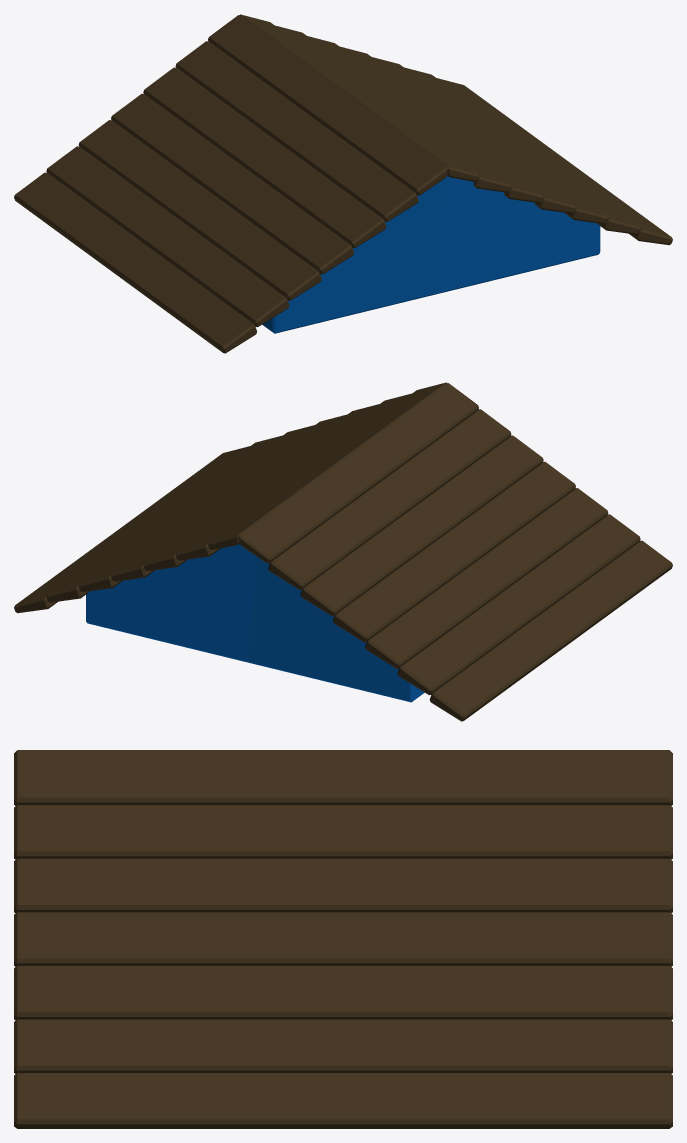
File: Ceiling.fbx
3 views of the same model, one above another, from view 1: azimuth 30°, elevation 25°; view 2: azimuth 150°, elevation 25°; view 3: azimuth 270°, elevation 25° (orthographic). The views are drawn at different scales.
Visible parts, largest first — view 1: Roof; view 2: Roof; view 3: Roof.
Boxes of the visible parts, <box> form: Roof: <box>14,14,672,353</box>; Roof: <box>14,382,672,721</box>; Roof: <box>14,750,672,1128</box>.
Bounding box in the file's own units: 2480 × 712 × 2000.
